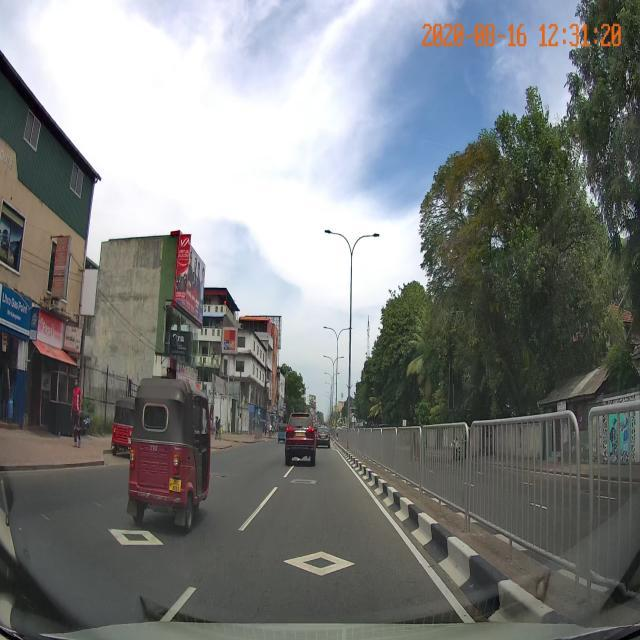diamond: (206, 549, 451, 589)
